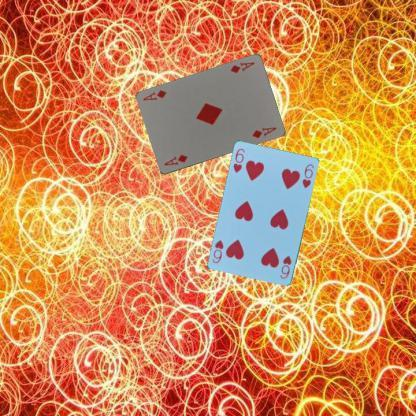6h: (230, 146, 247, 174), (277, 253, 293, 280)
Ad: (161, 152, 189, 167), (226, 60, 256, 74)
